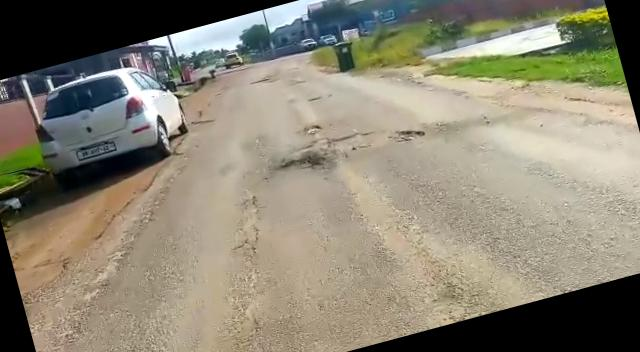pothole: (332, 111, 436, 160), (275, 146, 329, 178), (300, 120, 324, 138)
